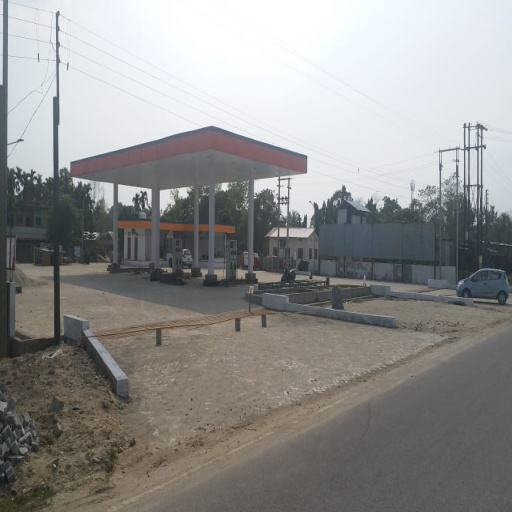roof: (68, 125, 306, 194)
